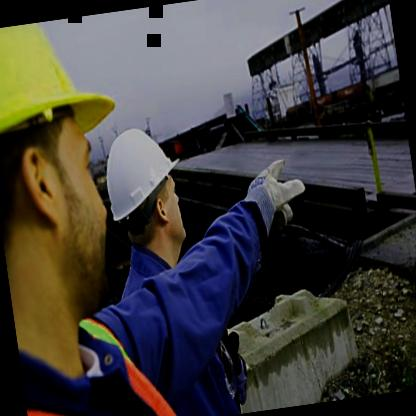helmet: (0, 13, 144, 331), (97, 117, 193, 257)
